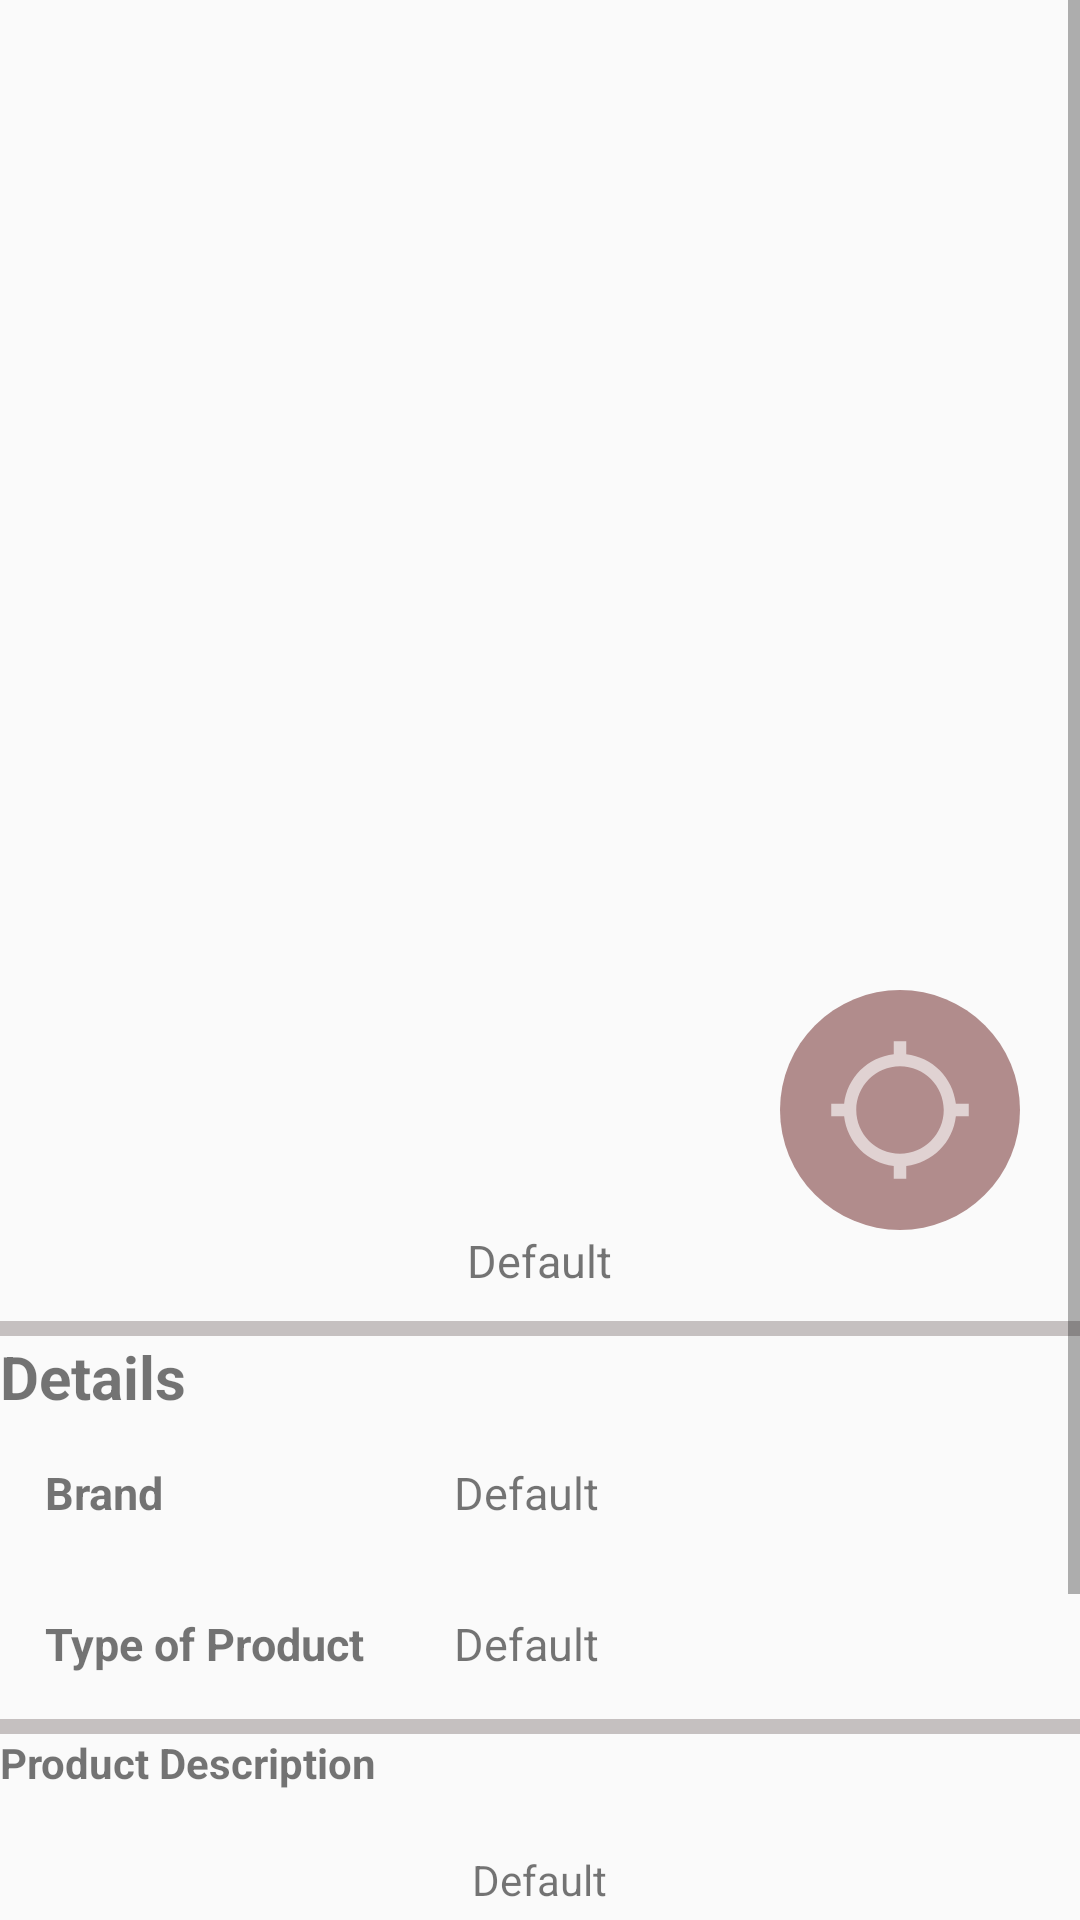

Icon click points for this 1080 × 1920 phone screenshot, format point (x, y):
location searching: point (900, 1110)
